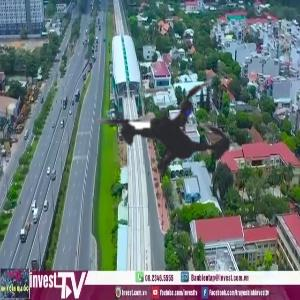drone: (57, 16, 284, 243)
